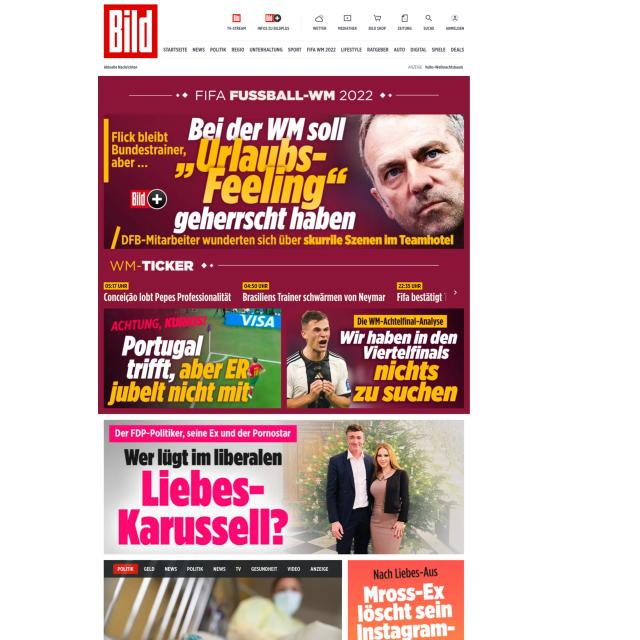logo: (102, 4, 160, 59)
navigation: (227, 10, 466, 34), (162, 44, 467, 56), (112, 562, 334, 576)
